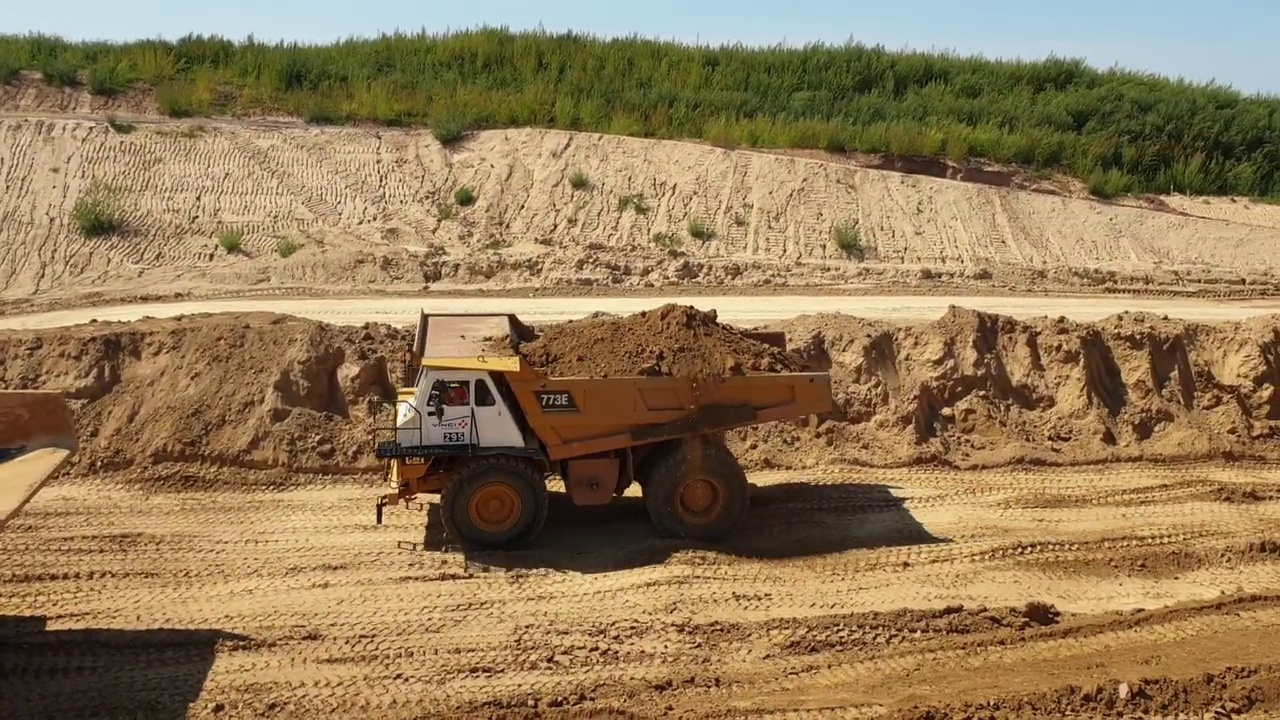truck: (374, 306, 836, 550), (2, 383, 81, 543)
